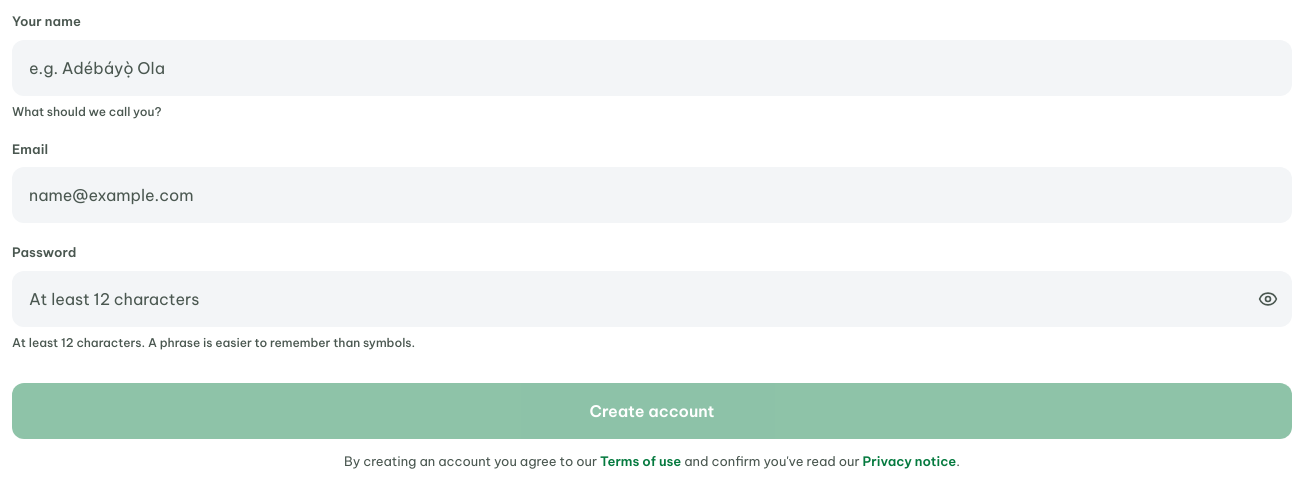
it: SignUpForm › shows a plain message when the API lists validation problems
Type "Ada" into the field labelled "Your name". click: (652, 68)
box: [12,40,1292,96]
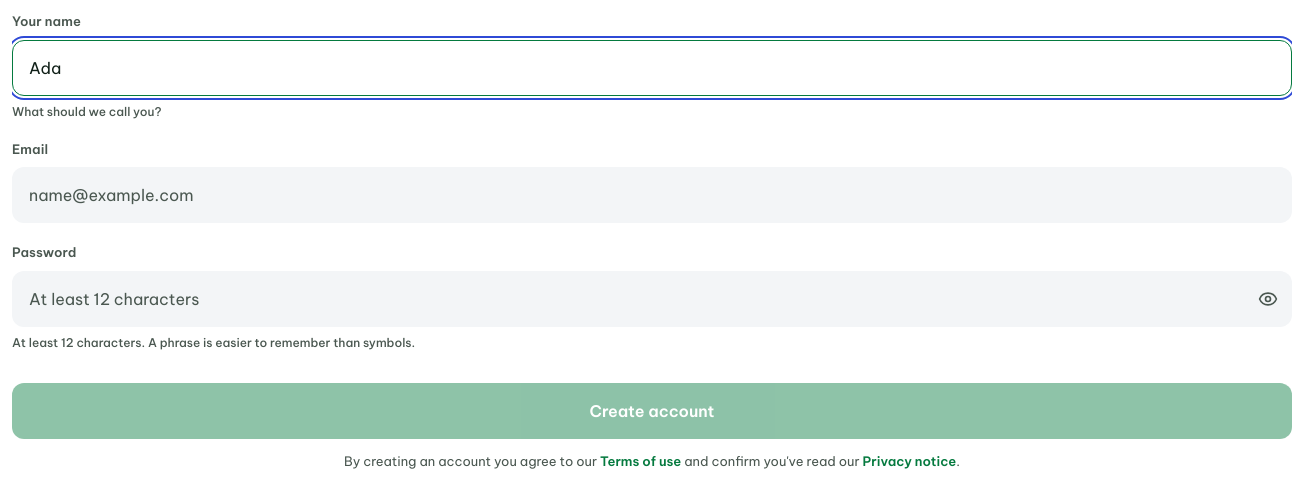
Type "not-an-email" into the field labelled "Email". click: (652, 195)
box: [12,167,1292,223]
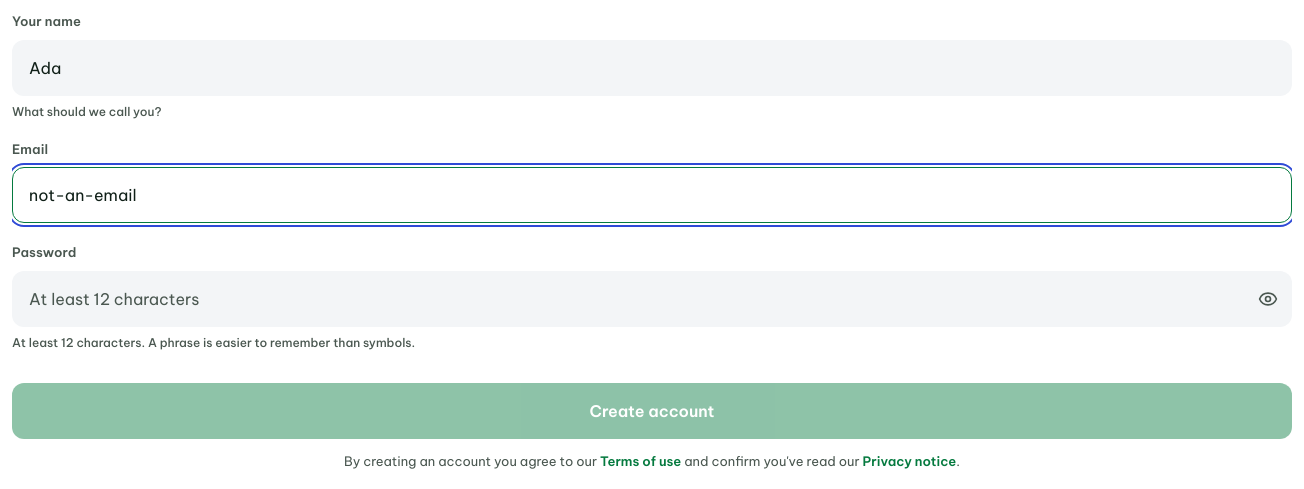
Type "correct horse battery" into the password field labelled "Password". click: (652, 298)
box: [12,270,1292,326]
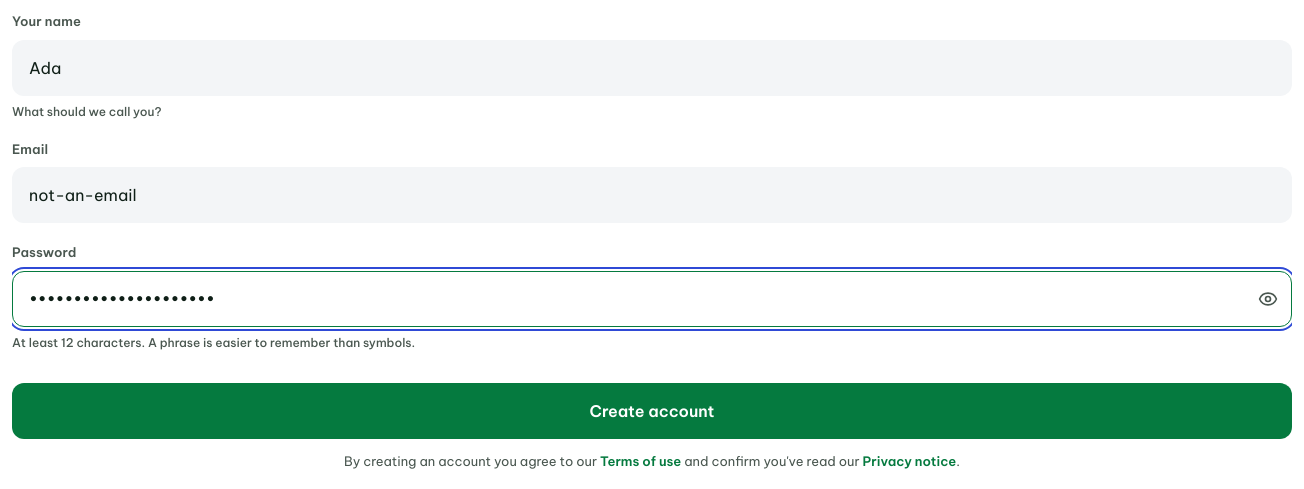
Click the button "Create account". click: (652, 410)
box: [12,382,1292,438]
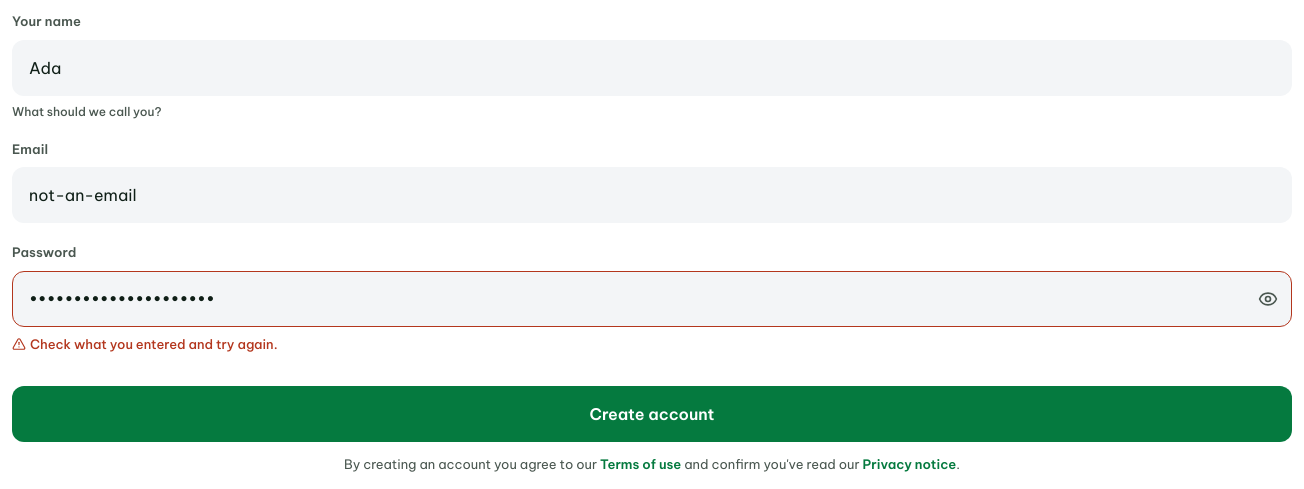
Expected: the message shows "Check what you entered", [30,336,278,352]
